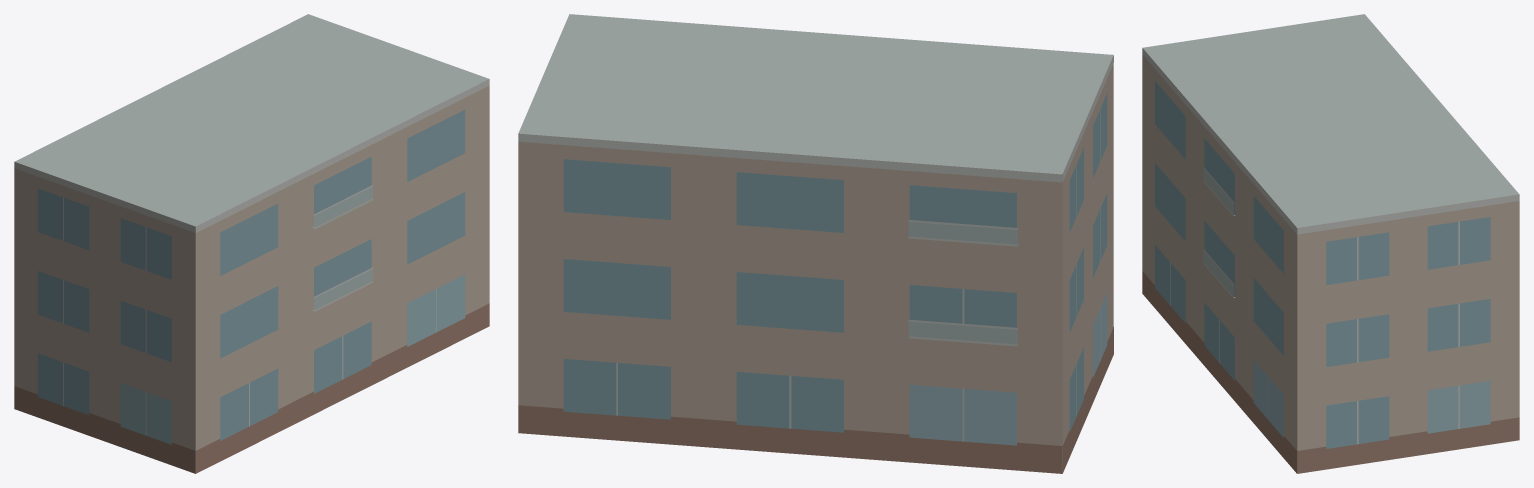
File: survey-upis-32984356.glb
3 views of the same model, side by side, from view 1: azimuth 30°, elevation 25°; view 2: azimuth 150°, elevation 25°; view 3: azimuth 270°, elevation 25° (orthographic). The views are drawn at different scales.
Parts seen in each view (by area): view 1: survey-upis-32984356.tmp; view 2: survey-upis-32984356.tmp; view 3: survey-upis-32984356.tmp.
Part boxes in pixels (box(x1,y1,x2,y2)): survey-upis-32984356.tmp: box(14, 14, 489, 473); survey-upis-32984356.tmp: box(518, 14, 1113, 473); survey-upis-32984356.tmp: box(1142, 14, 1519, 473).
Bounding box in the file's own units: 17.09 × 9.15 × 12.73.
